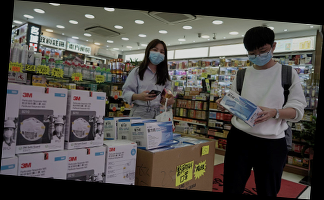with_mask: (247, 45, 273, 67), (147, 47, 166, 67)
